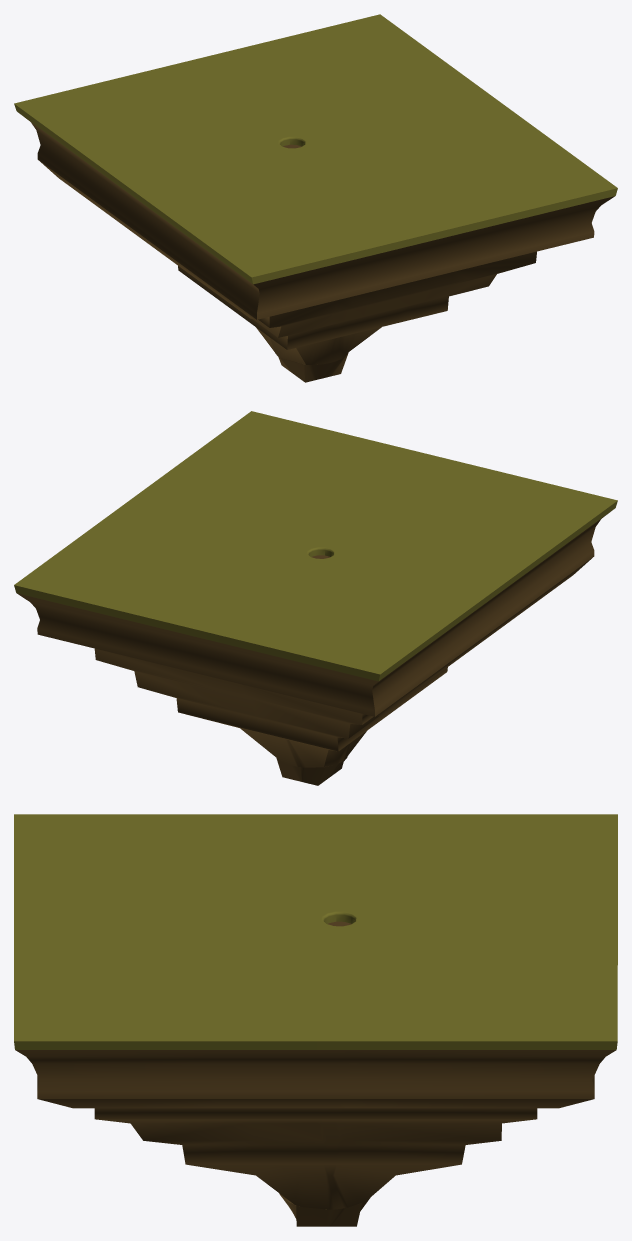
Rendered from Sm_Isla_2.fbx.
The picture shows the model from 3 angles, top to bottom: view 1: azimuth 30°, elevation 25°; view 2: azimuth 150°, elevation 25°; view 3: azimuth 270°, elevation 25°; orthographic projection. The views are drawn at different scales.
Visible parts, largest first — view 1: Sm_Isla_2; view 2: Sm_Isla_2; view 3: Sm_Isla_2.
Boxes of the visible parts, left/top/right/bottom form: Sm_Isla_2: left=14, top=14, right=617, bottom=382; Sm_Isla_2: left=14, top=411, right=617, bottom=785; Sm_Isla_2: left=14, top=814, right=617, bottom=1226.
Bounding box in the file's own units: 547 × 324 × 615.
